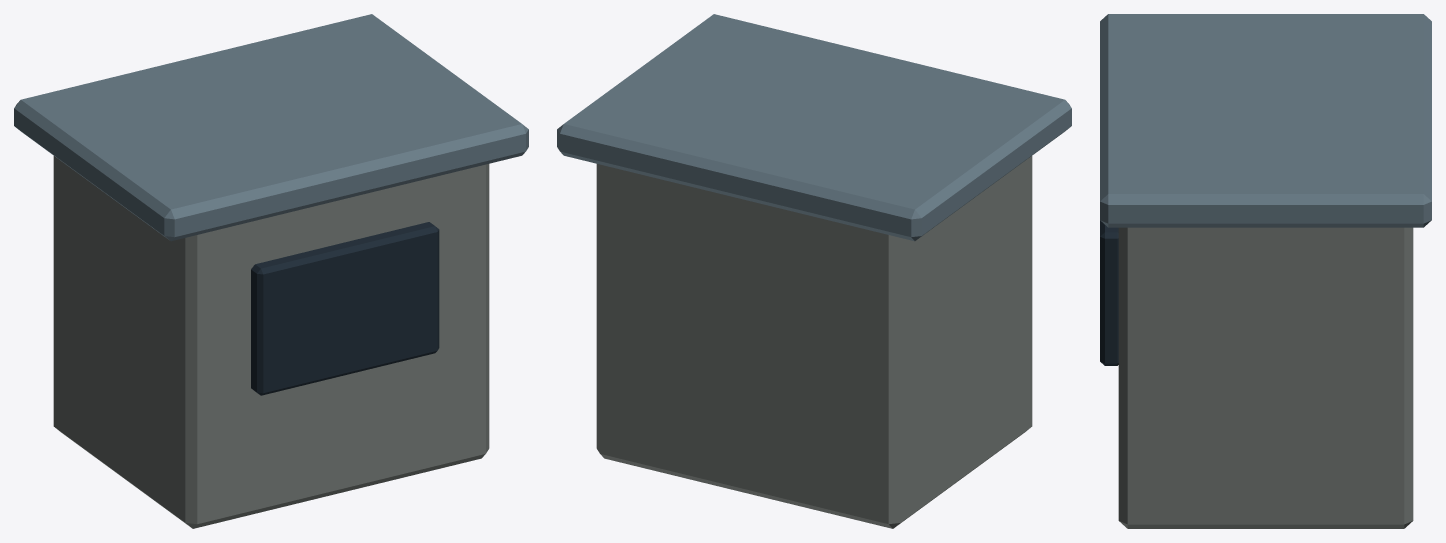
The model's file is objects-oven.lod0.glb.
3 renders of one model, left to right at view 1: azimuth 30°, elevation 25°; view 2: azimuth 150°, elevation 25°; view 3: azimuth 270°, elevation 25°, orthographic. The views are drawn at different scales.
Parts seen in each view (by area): view 1: objects-oven__body; view 2: objects-oven__body; view 3: objects-oven__body.
Boxes of the visible parts, <box> form: objects-oven__body: <box>14,14,528,528</box>; objects-oven__body: <box>557,14,1071,528</box>; objects-oven__body: <box>1100,14,1431,528</box>.
Size of the model in its own units: 1.2 by 1.05 by 0.9.
